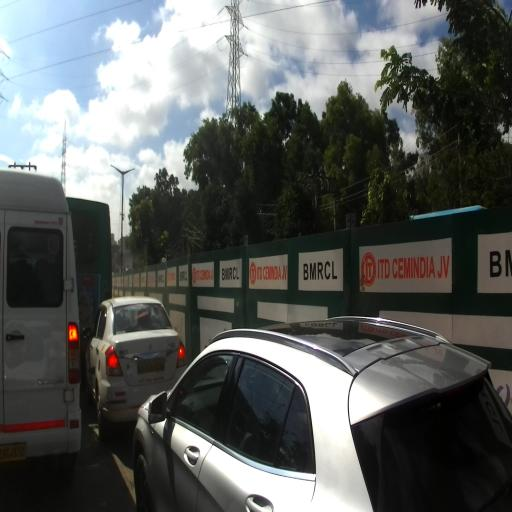street_light_0: (110, 164, 124, 177), (122, 168, 135, 178)
